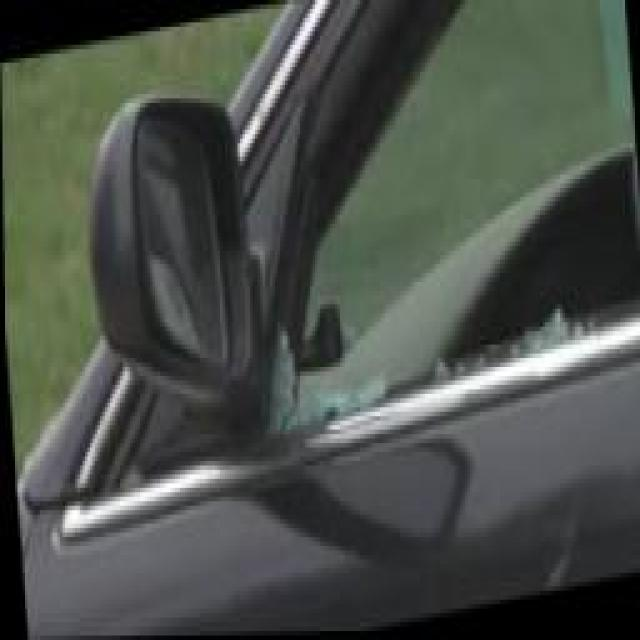replaceable: (276, 113, 640, 424)
